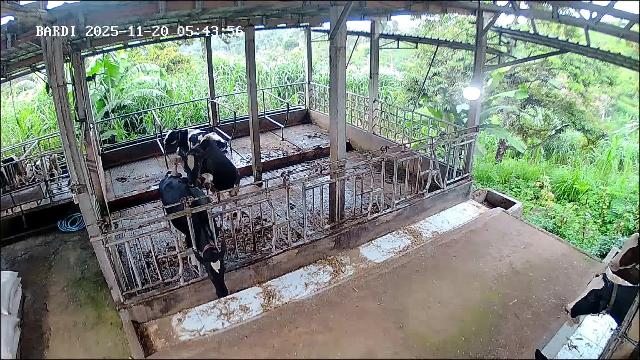mounting: (180, 139, 241, 230)
